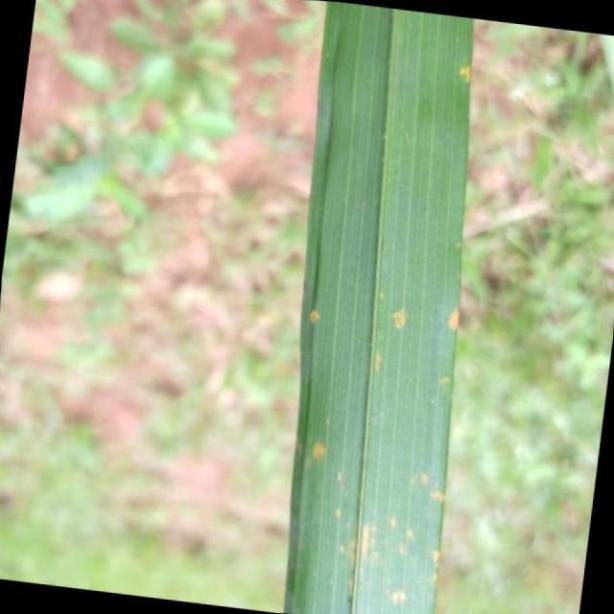Kalium: (289, 0, 475, 614)
